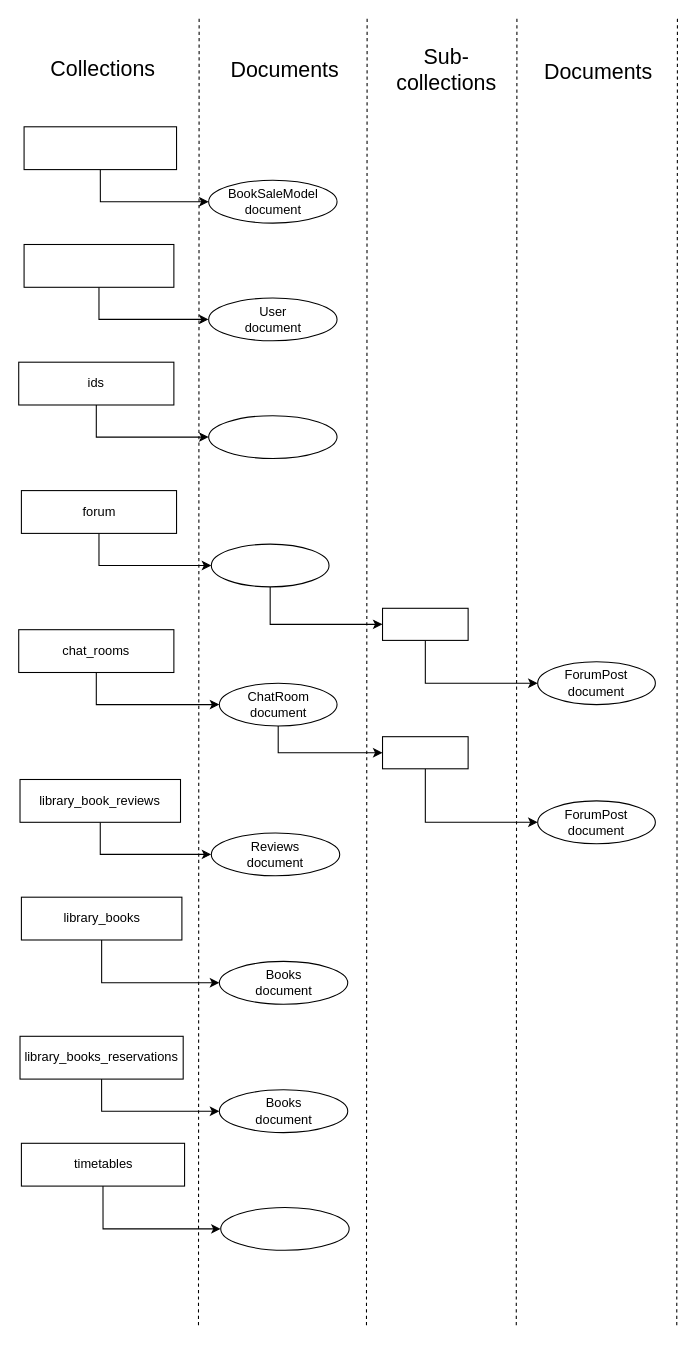
Some shapes in this 698 by 1346 pixel diagram are drawn without their labels. The centre of each missing label's shape, as x and y in pixels:
"books_for_sale" goes at point (100, 148).
"Day document" goes at point (284, 1228).
"ForumTopic document" goes at point (269, 565).
"ids document" goes at point (272, 436).
"messages" goes at point (424, 752).
"posts" goes at point (424, 623).
"users" goes at point (98, 265).
